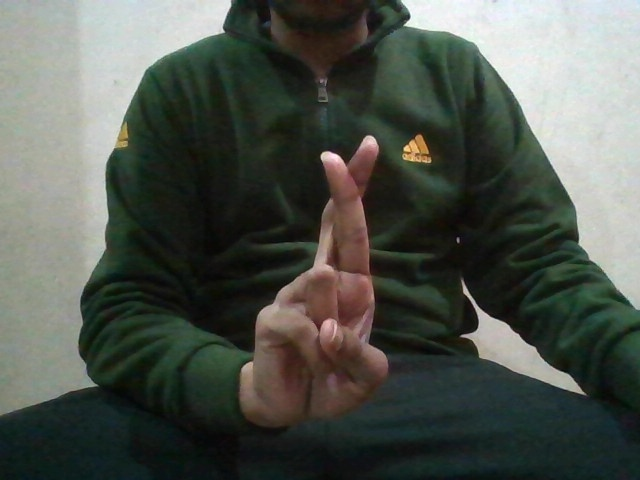R: (251, 130, 396, 427)
